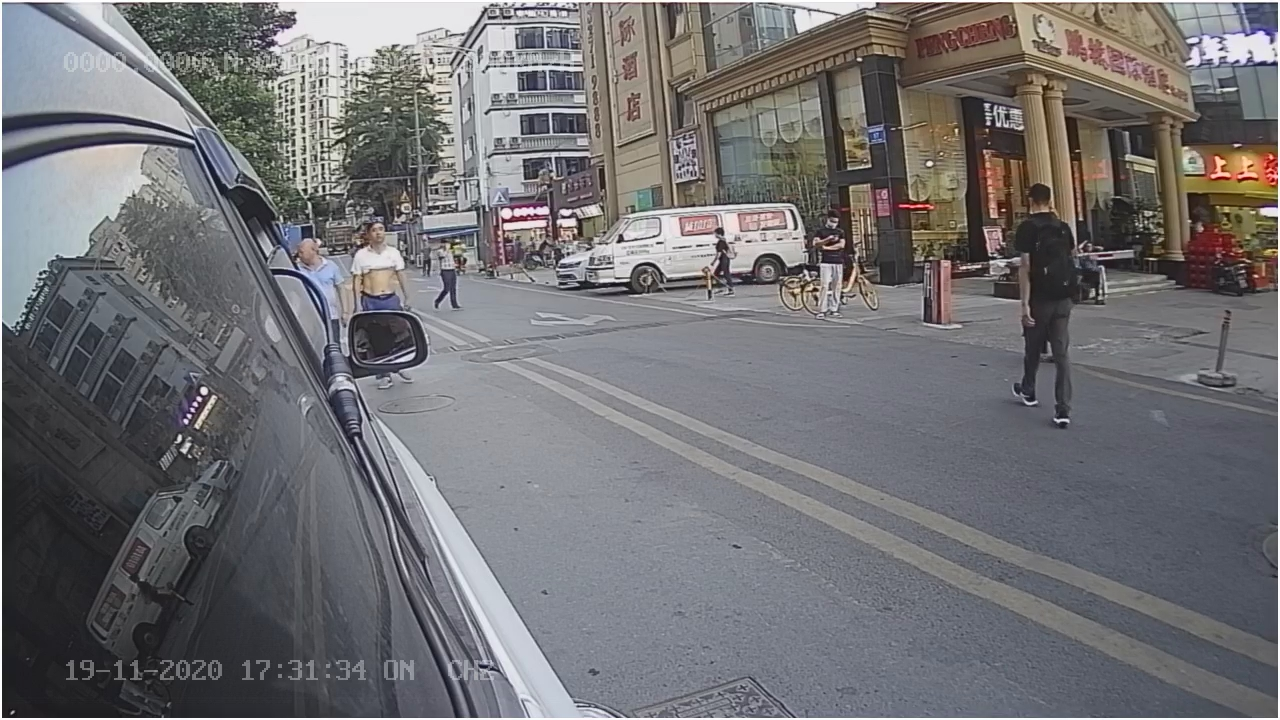person: (1003, 178, 1079, 422)
